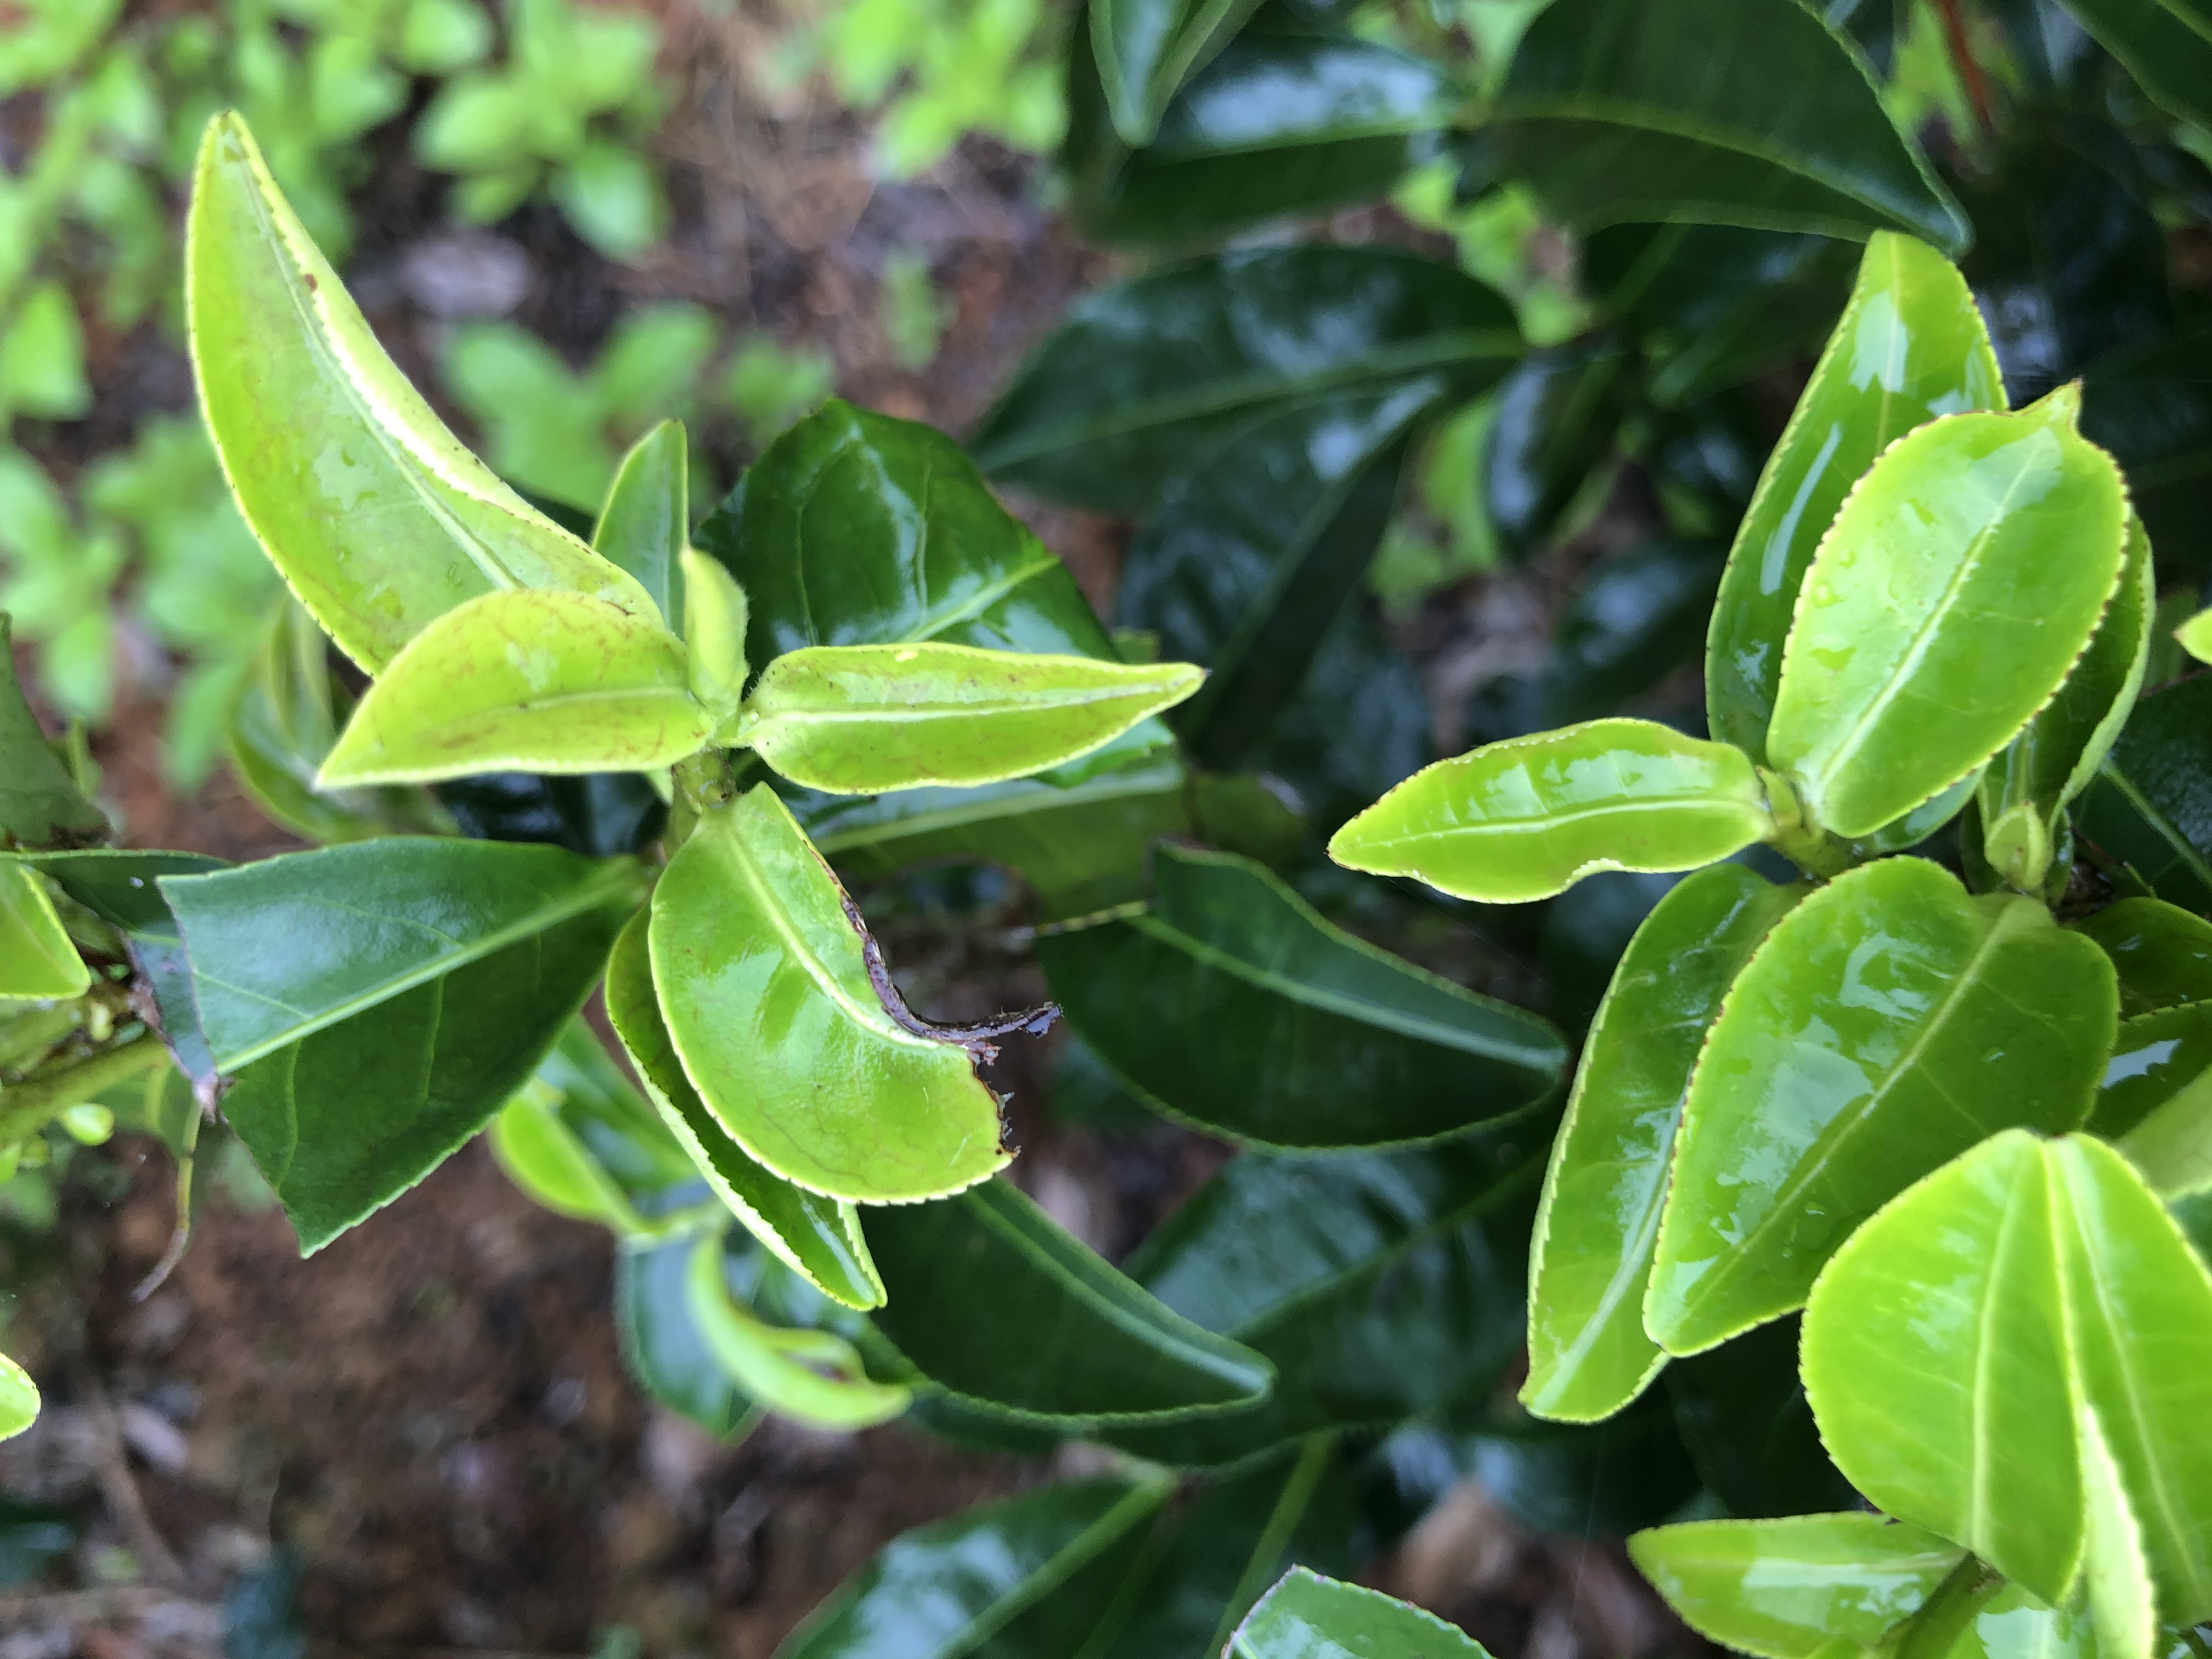formosa: (303, 601, 712, 795), (749, 631, 1205, 789)
thrips: (657, 774, 1052, 1213)
